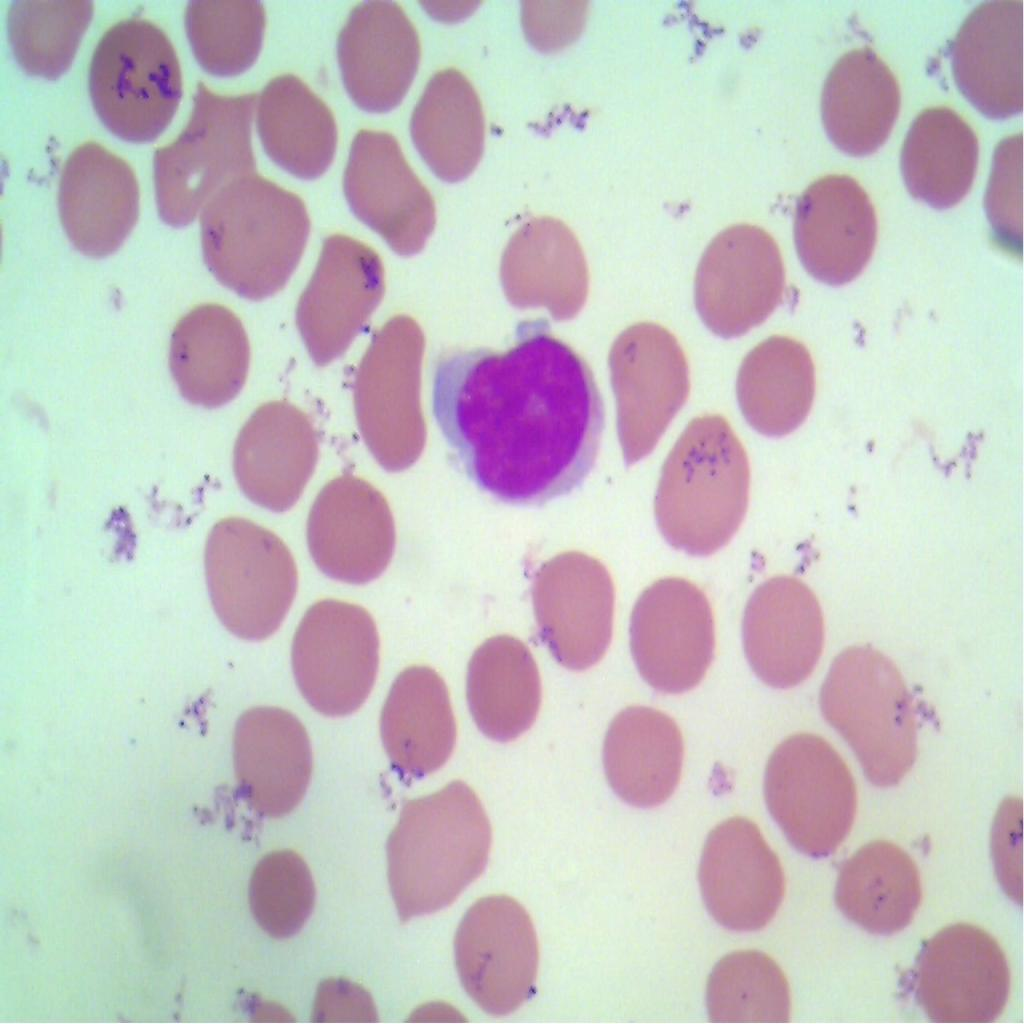Eritrosit: (376, 772, 496, 918), (326, 117, 450, 258), (288, 224, 398, 365), (758, 728, 862, 874), (643, 414, 751, 553), (79, 17, 191, 150), (603, 307, 693, 472), (822, 644, 924, 788), (343, 314, 433, 476), (192, 512, 298, 645), (198, 170, 306, 300), (155, 79, 254, 219), (689, 219, 790, 351), (626, 567, 724, 702), (51, 141, 146, 278), (488, 210, 595, 331), (733, 574, 835, 699), (288, 595, 386, 724), (788, 168, 884, 298), (529, 538, 615, 675), (813, 45, 908, 168), (324, 0, 423, 118), (162, 301, 259, 420), (303, 475, 402, 591), (371, 657, 463, 781), (688, 810, 788, 924), (598, 699, 694, 817), (453, 891, 546, 1012), (226, 390, 322, 506), (456, 625, 546, 748), (256, 65, 346, 185), (916, 915, 1015, 1023), (896, 101, 982, 224), (228, 698, 315, 818), (408, 64, 488, 194), (830, 832, 926, 939), (728, 332, 822, 438), (690, 935, 794, 1023), (239, 840, 319, 950)
Limfoblast: (434, 332, 600, 514)
